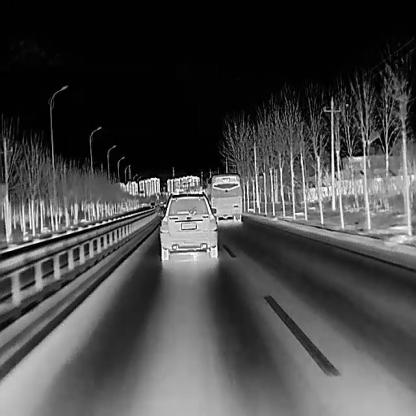bus: (206, 172, 241, 220)
car: (158, 190, 216, 260), (150, 201, 154, 207)
